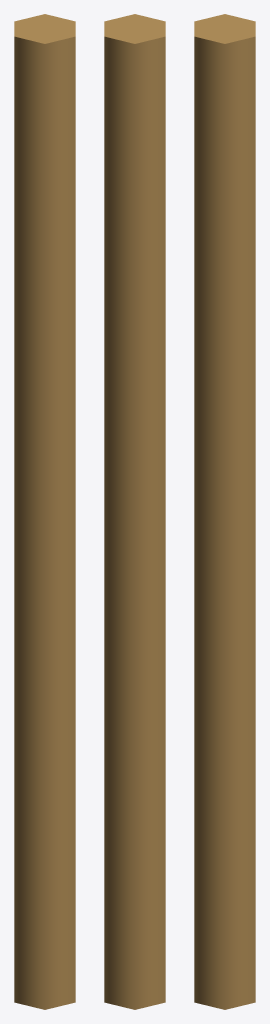
Rendered from signpost_01.glb.
The picture shows the model from 3 angles, left to right: view 1: azimuth 30°, elevation 25°; view 2: azimuth 150°, elevation 25°; view 3: azimuth 330°, elevation 25°; orthographic projection.
Visible parts, largest first — view 1: signpost; view 2: signpost; view 3: signpost.
Boxes of the visible parts, x1,y1,x2,y2 form: signpost: (14,14,75,1009); signpost: (104,14,165,1009); signpost: (194,14,255,1009).
Bounding box in the file's own units: 0.2 × 3 × 0.1732.
